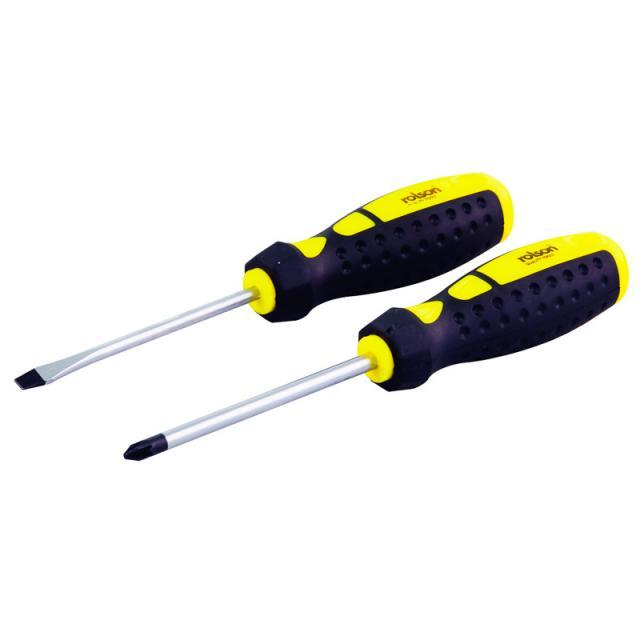screwdriver: (116, 232, 632, 472), (8, 168, 520, 394)
